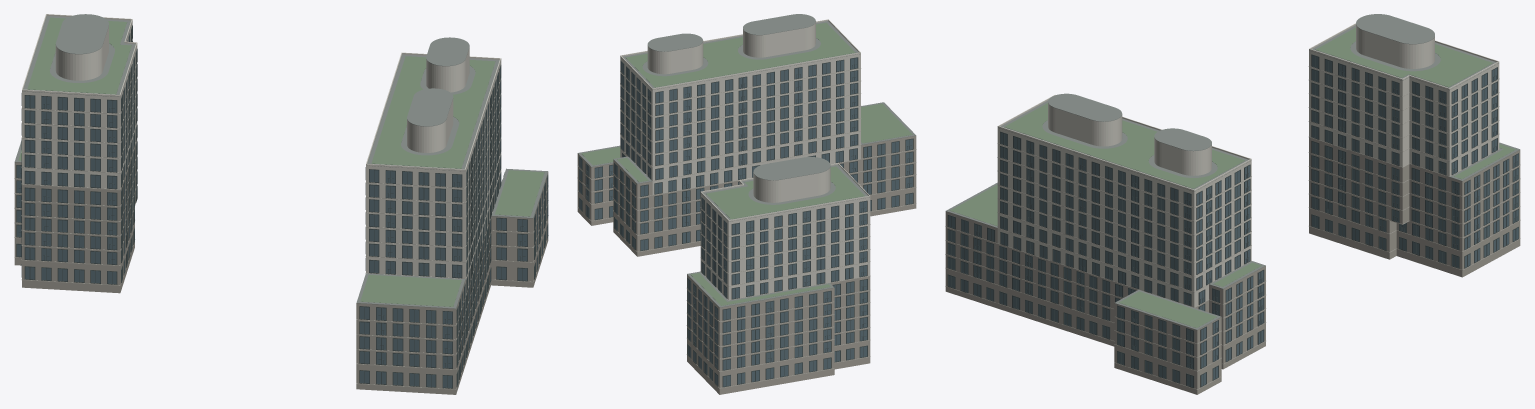
The model's file is tomken-4094-study.glb.
3 views of the same model, side by side, from view 1: azimuth 30°, elevation 25°; view 2: azimuth 150°, elevation 25°; view 3: azimuth 270°, elevation 25° (orthographic). The views are drawn at different scales.
Visible parts, largest first — view 1: westminster-2024-glass, westminster-2024-dark, westminster-2024-upper, westminster-2024-podium, westminster-2024-green, westminster-2024-roof, westminster-2024-frame; view 2: westminster-2024-glass, westminster-2024-upper, westminster-2024-dark, westminster-2024-podium, westminster-2024-green, westminster-2024-roof, westminster-2024-frame; view 3: westminster-2024-glass, westminster-2024-upper, westminster-2024-dark, westminster-2024-podium, westminster-2024-green, westminster-2024-roof, westminster-2024-frame.
Boxes of the visible parts, x1,y1,x2,y2 form: westminster-2024-glass: (17, 28, 547, 387); westminster-2024-dark: (16, 25, 548, 388); westminster-2024-upper: (22, 14, 501, 294); westminster-2024-podium: (14, 139, 548, 394); westminster-2024-green: (18, 17, 544, 306); westminster-2024-roof: (14, 14, 548, 308); westminster-2024-frame: (14, 66, 548, 389); westminster-2024-glass: (579, 58, 912, 386); westminster-2024-upper: (620, 19, 870, 299); westminster-2024-dark: (579, 57, 913, 387); westminster-2024-podium: (577, 136, 916, 394); westminster-2024-green: (581, 22, 912, 305); westminster-2024-roof: (578, 14, 915, 307); westminster-2024-frame: (577, 68, 916, 388); westminster-2024-glass: (948, 55, 1518, 387); westminster-2024-upper: (997, 23, 1499, 307); westminster-2024-dark: (947, 54, 1518, 388); westminster-2024-podium: (945, 137, 1520, 394); westminster-2024-green: (950, 27, 1515, 327); westminster-2024-roof: (946, 14, 1519, 330); westminster-2024-frame: (945, 66, 1520, 389).
Size of the model in its own units: 92.81 by 46.18 by 114.
